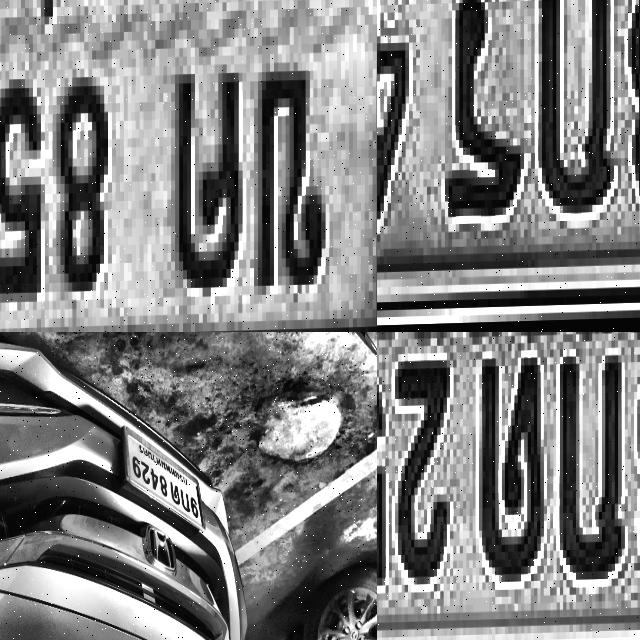license-plate: (0, 0, 377, 332), (377, 0, 640, 332), (377, 332, 640, 640), (120, 421, 206, 539)
